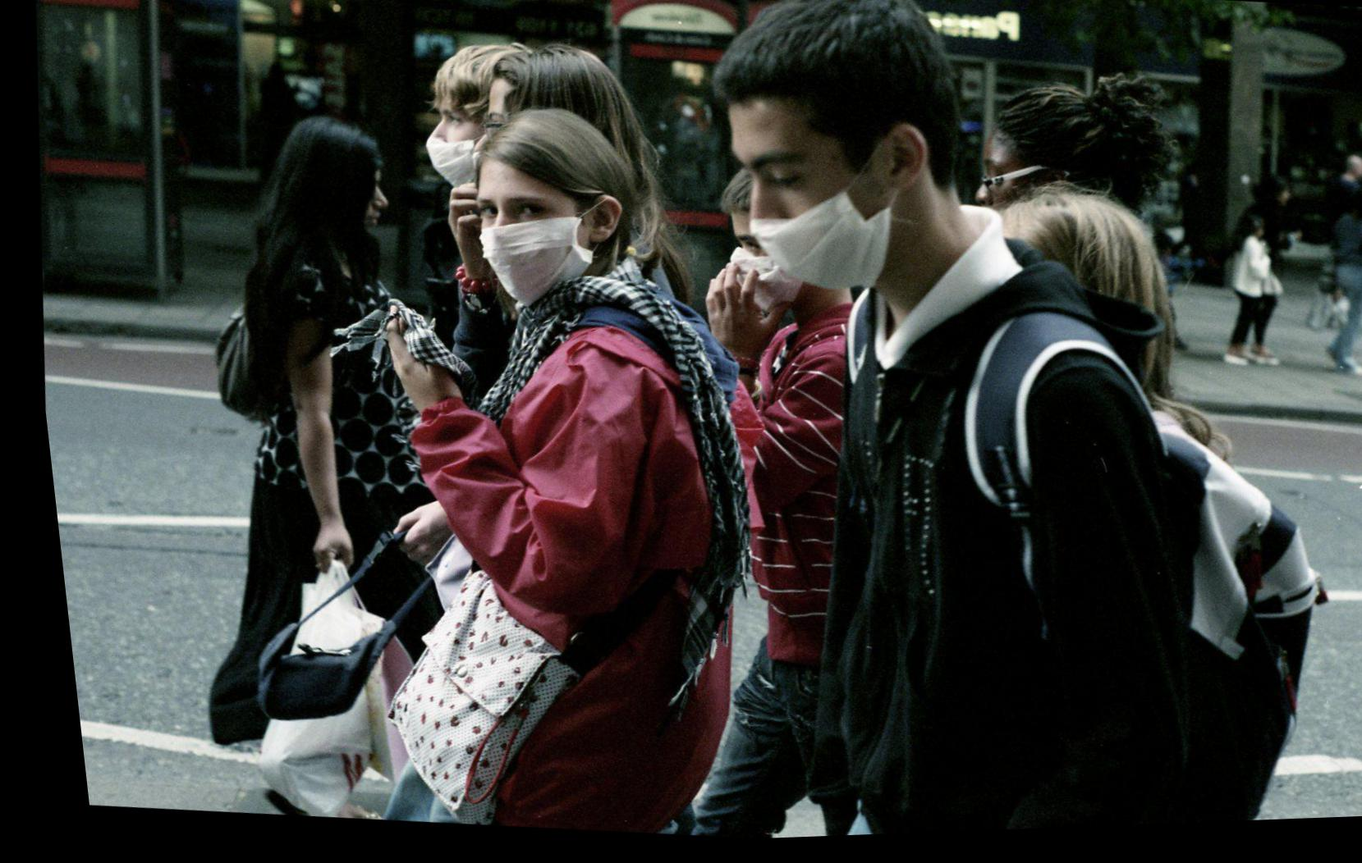OK: (462, 192, 589, 311), (711, 223, 823, 322)
WRONG: (719, 72, 925, 318), (409, 107, 507, 199)
